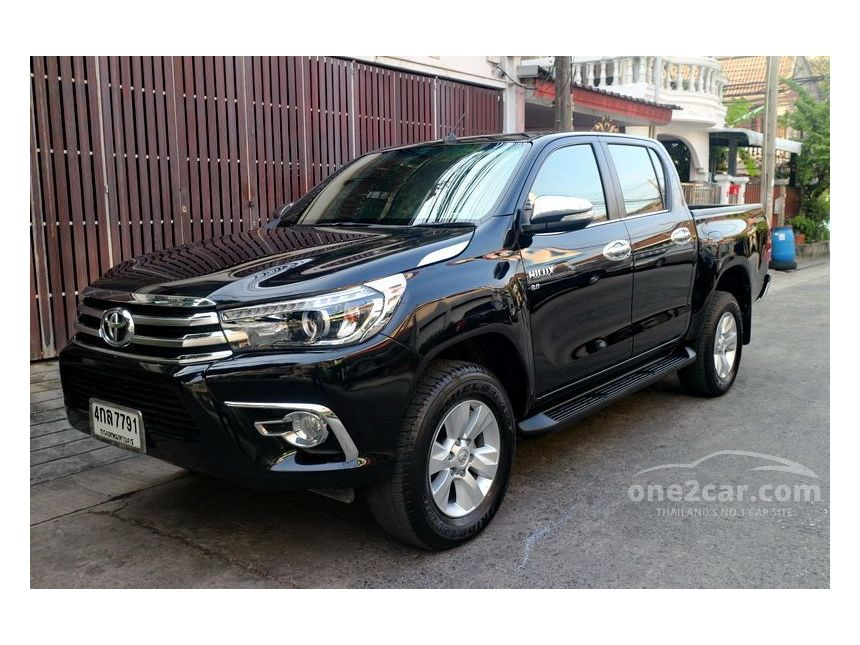pickup: (56, 124, 775, 552)
